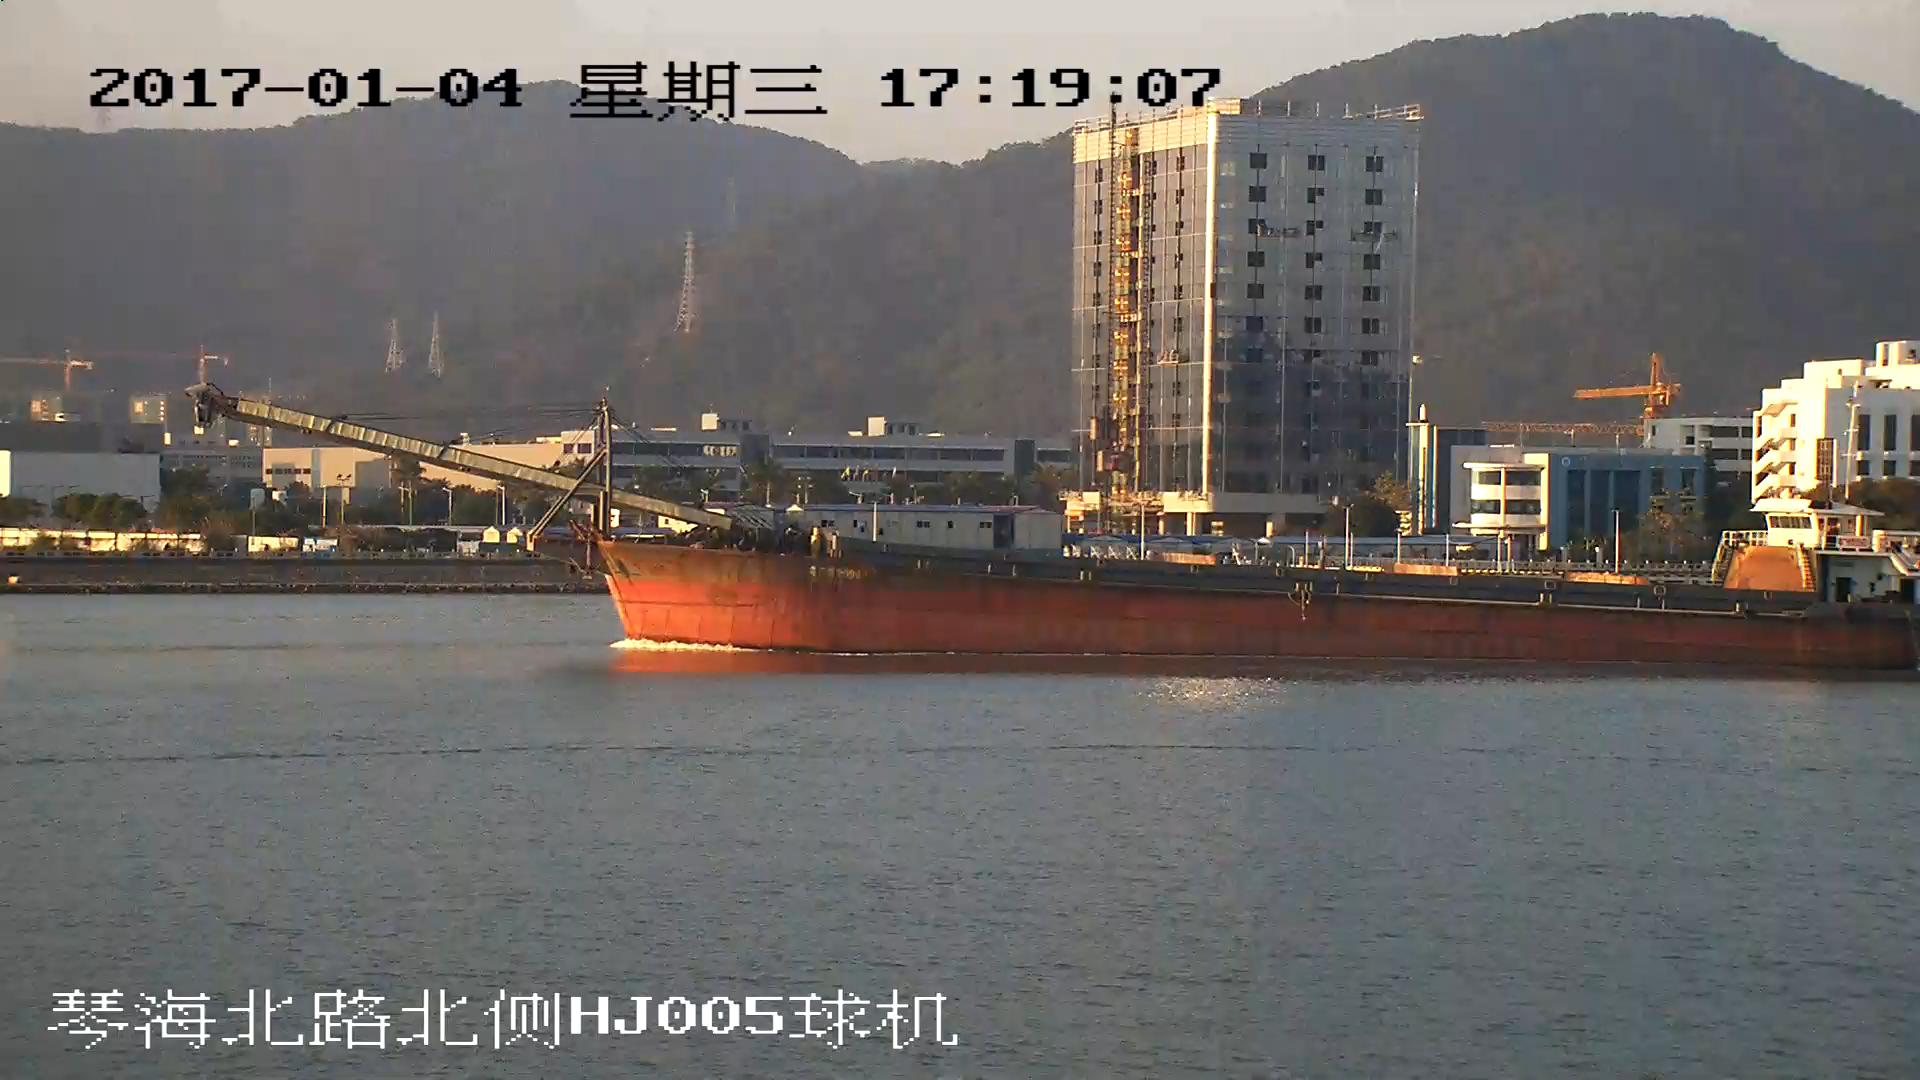bulk cargo carrier: (192, 388, 1920, 664)
